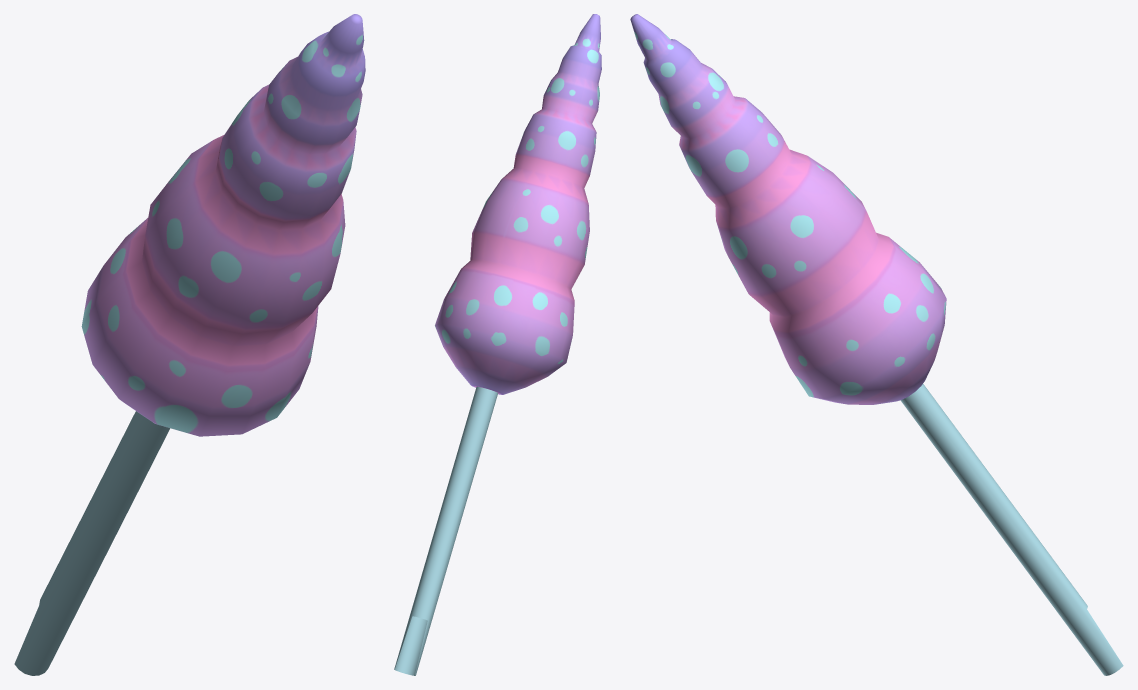
File: Unicorn_Horn.fbx
The picture shows the model from 3 angles, left to right: view 1: azimuth 30°, elevation 25°; view 2: azimuth 150°, elevation 25°; view 3: azimuth 270°, elevation 25°; orthographic projection. The views are drawn at different scales.
Visible parts, largest first — view 1: Unicorn_Horn; view 2: Unicorn_Horn; view 3: Unicorn_Horn.
Part boxes in pixels (x1=…): Unicorn_Horn: x1=14, y1=14, x2=365, y2=675; Unicorn_Horn: x1=394, y1=14, x2=601, y2=675; Unicorn_Horn: x1=630, y1=14, x2=1123, y2=675.
Bounding box in the file's own units: 14.59 × 61.51 × 41.72.
